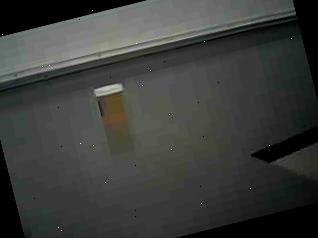Bottle B: (83, 76, 142, 142)
